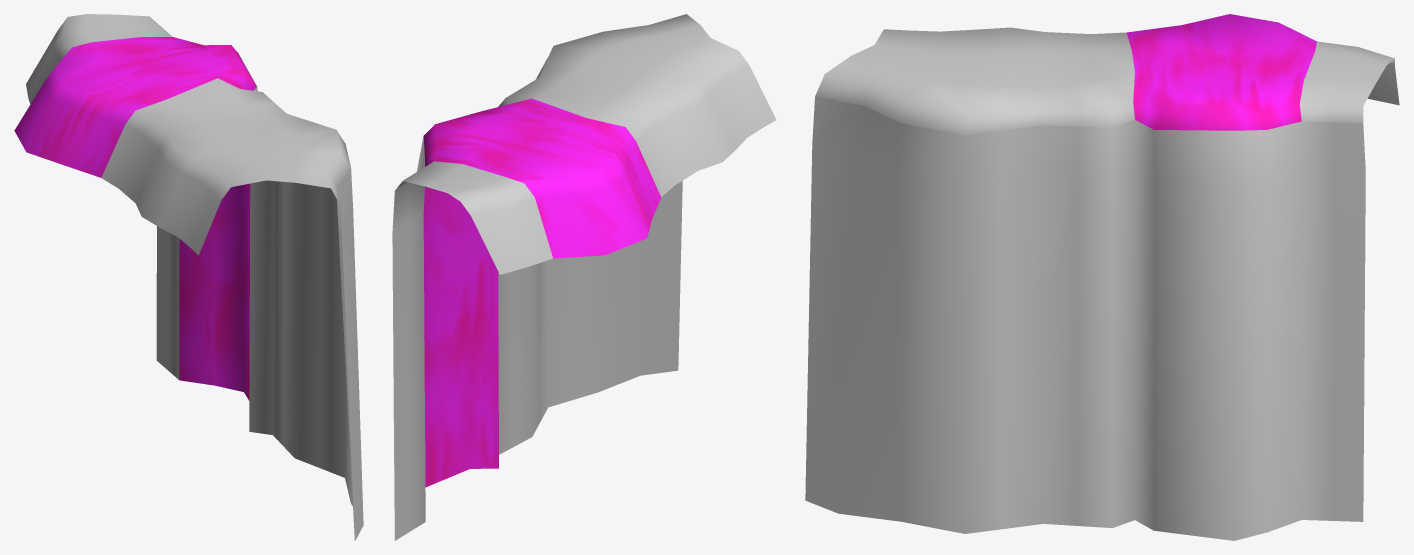
Rendered from env_bosstrain_lavafall03.fbx.
3 views of the same model, side by side, from view 1: azimuth 30°, elevation 25°; view 2: azimuth 150°, elevation 25°; view 3: azimuth 270°, elevation 25° (orthographic). The views are drawn at different scales.
Parts seen in each view (by area): view 1: env_bosstrain_lavafall03; view 2: env_bosstrain_lavafall03; view 3: env_bosstrain_lavafall03.
Part boxes in pixels (box(x1,y1,x2,y2)): env_bosstrain_lavafall03: box(14, 14, 363, 540); env_bosstrain_lavafall03: box(392, 14, 776, 540); env_bosstrain_lavafall03: box(805, 14, 1399, 540).
Bounding box in the file's own units: 293 × 458 × 574.
